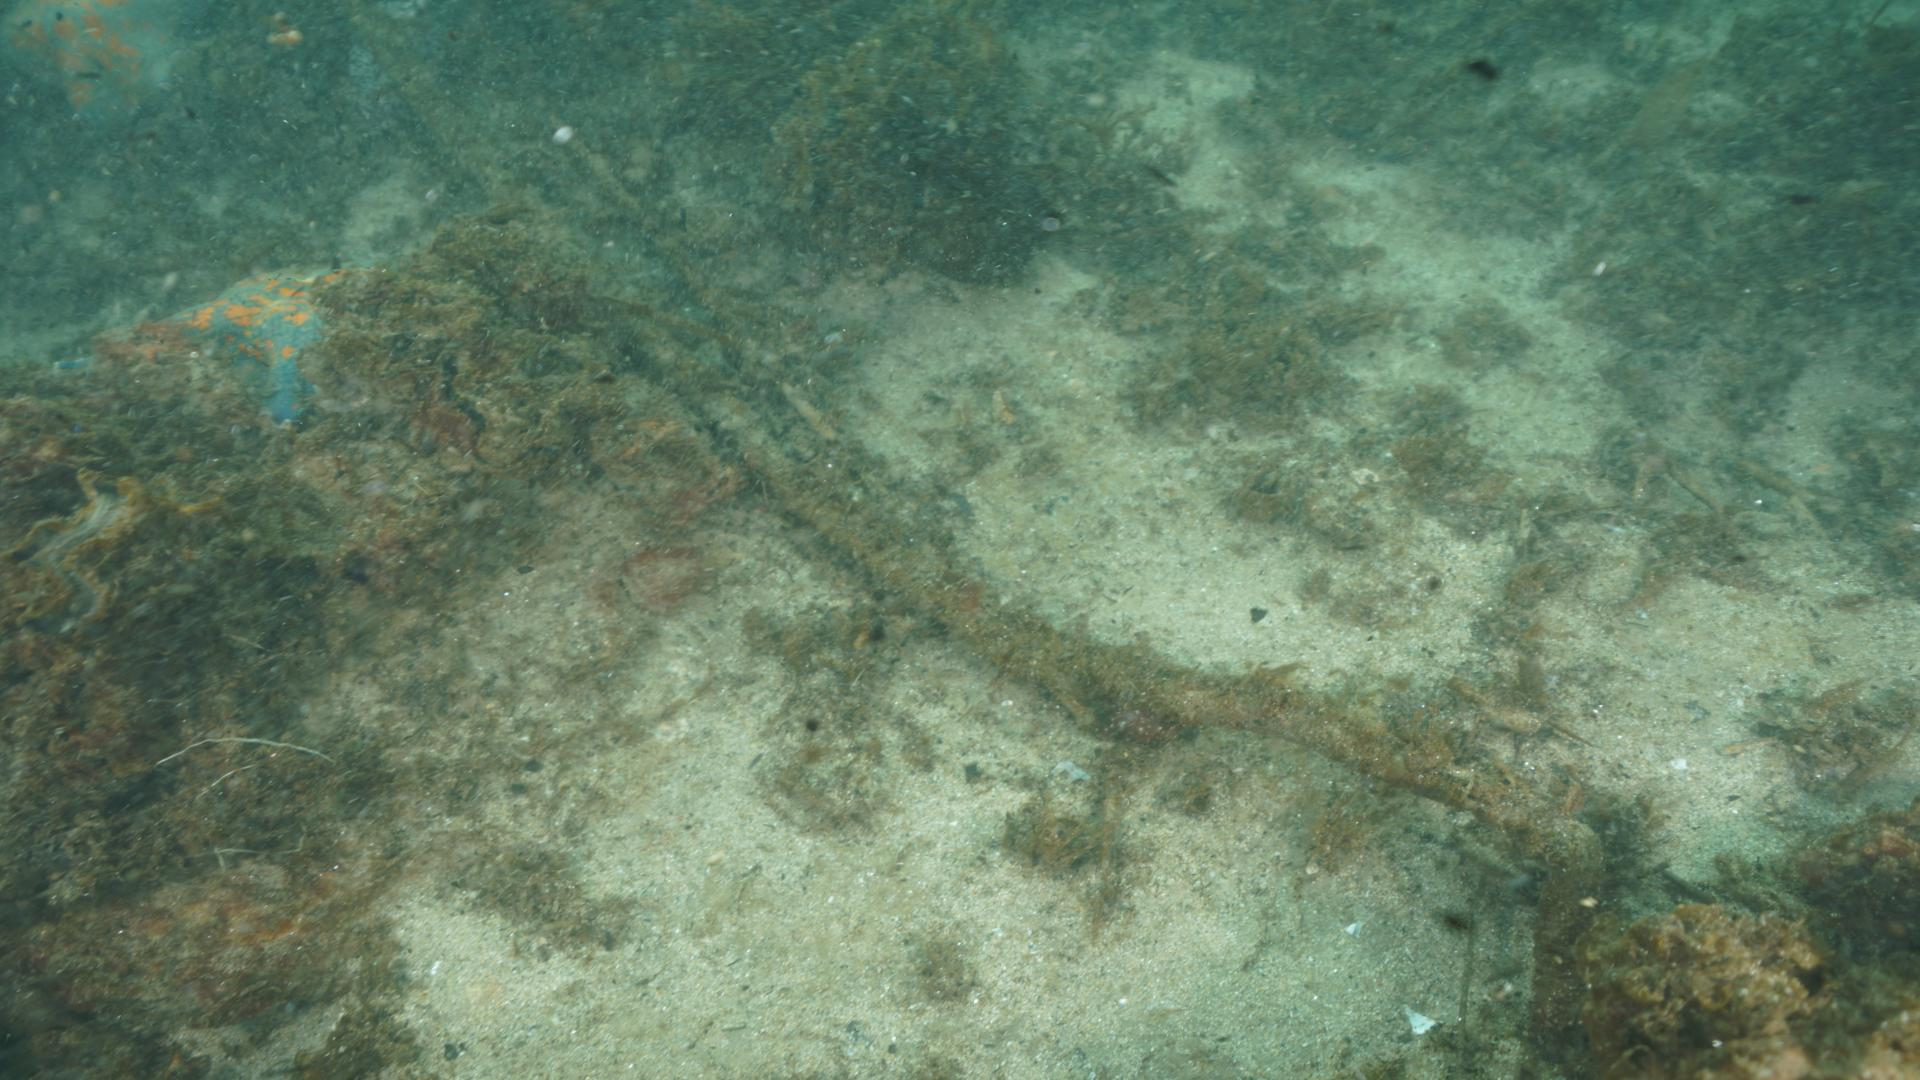wood: (393, 76, 1611, 931)
